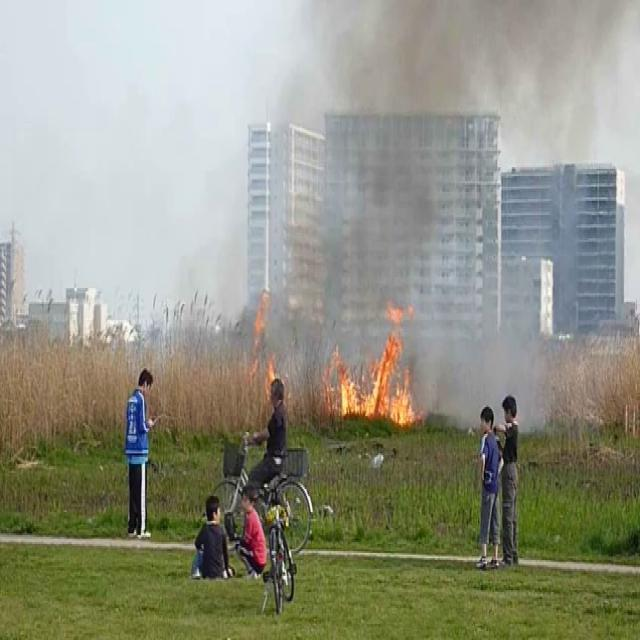Fire: (334, 296, 421, 431), (237, 288, 296, 397)
Smoke: (98, 0, 638, 377)
